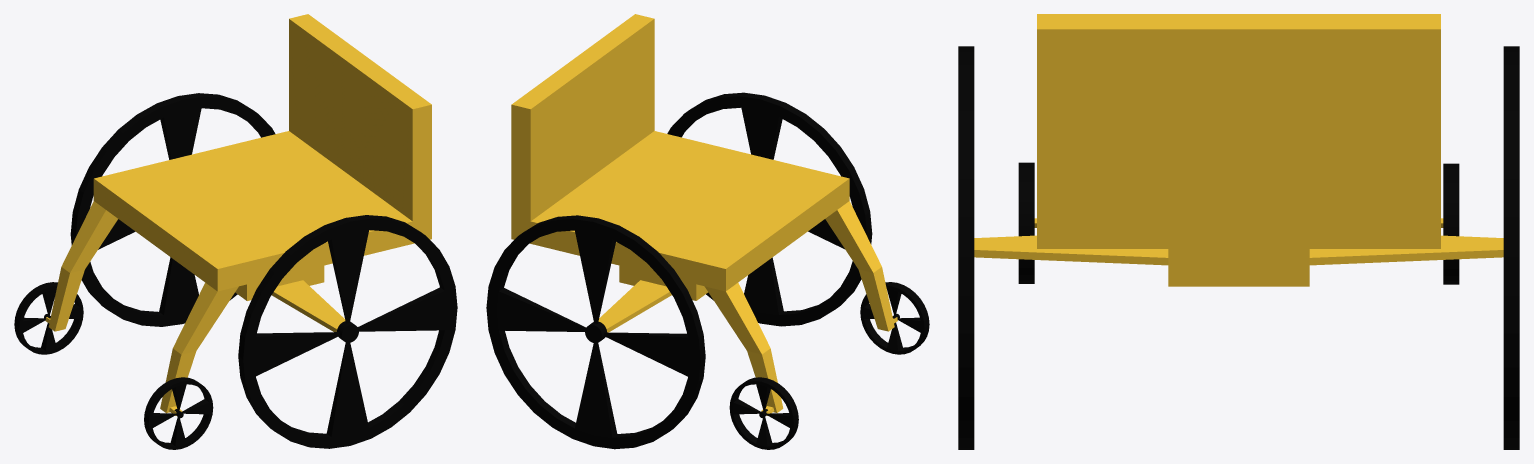
File: WheelChair.fbx
The picture shows the model from 3 angles, left to right: view 1: azimuth 30°, elevation 25°; view 2: azimuth 150°, elevation 25°; view 3: azimuth 270°, elevation 25°; orthographic projection. The views are drawn at different scales.
Parts seen in each view (by area): view 1: Base, LeftWheel, RightWheel, LeftWheel.Front, RightWheel.Front; view 2: Base, RightWheel, LeftWheel, RightWheel.Front, LeftWheel.Front; view 3: Base, LeftWheel, RightWheel, LeftWheel.Front, RightWheel.Front.
Part boxes in pixels (<box>): Base: <box>45,14,431,415</box>; LeftWheel: <box>238,215,457,448</box>; RightWheel: <box>70,93,275,326</box>; LeftWheel.Front: <box>144,377,213,449</box>; RightWheel.Front: <box>14,282,83,354</box>; Base: <box>511,14,897,415</box>; RightWheel: <box>486,215,705,449</box>; LeftWheel: <box>667,92,872,326</box>; RightWheel.Front: <box>729,377,798,449</box>; LeftWheel.Front: <box>860,282,929,354</box>; Base: <box>974,14,1503,286</box>; LeftWheel: <box>958,46,974,449</box>; RightWheel: <box>1503,46,1519,449</box>; LeftWheel.Front: <box>1018,162,1034,283</box>; RightWheel.Front: <box>1443,163,1459,284</box>.
Bounding box in the file's own units: 271 × 266 × 278.
